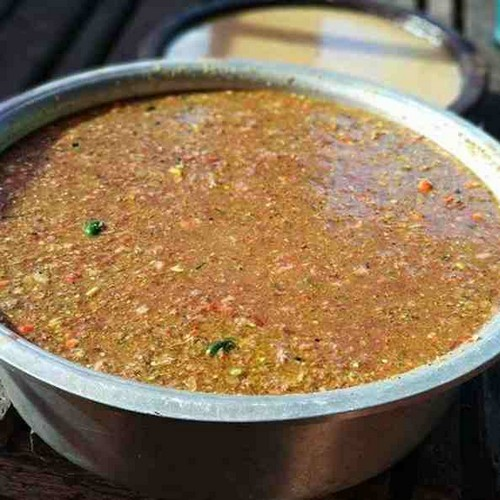komoh: (60, 110, 419, 369)
